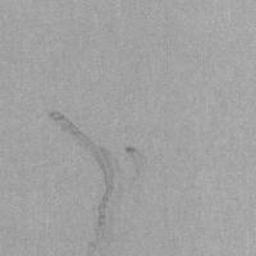Water spot: (49, 111, 114, 256), (125, 146, 136, 153)
